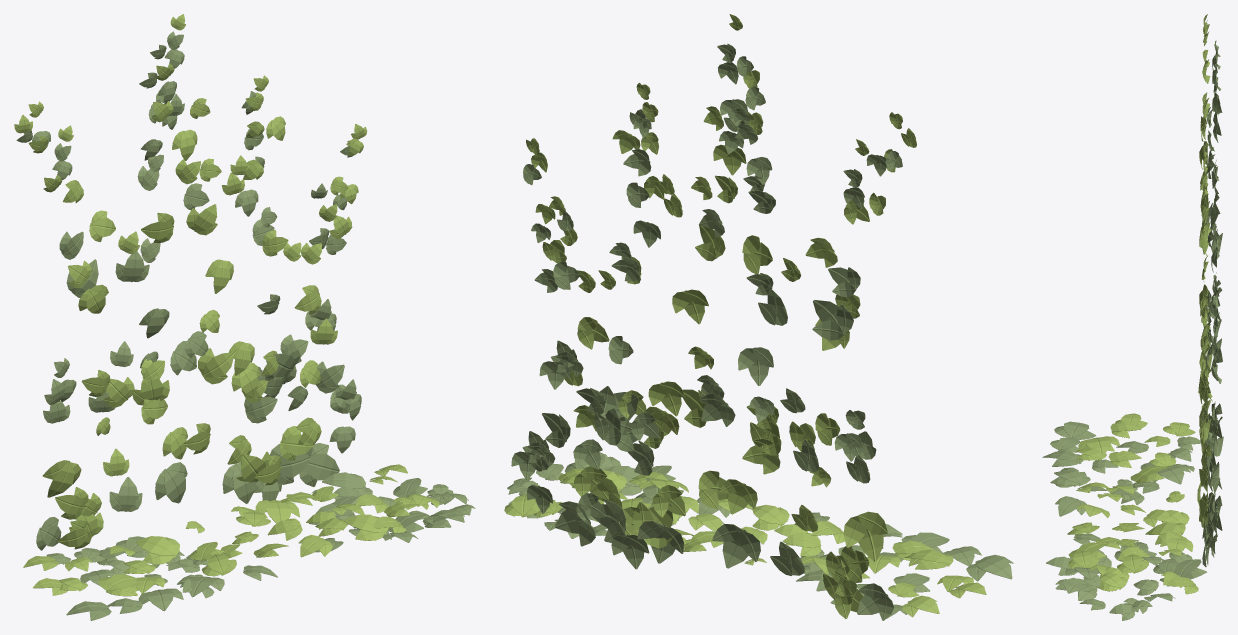
The model's file is broken_englishivy.fbx.
3 views of the same model, side by side, from view 1: azimuth 30°, elevation 25°; view 2: azimuth 150°, elevation 25°; view 3: azimuth 270°, elevation 25° (orthographic). The views are drawn at different scales.
Parts seen in each view (by area): view 1: EnglishIvy_Broken; view 2: EnglishIvy_Broken; view 3: EnglishIvy_Broken.
Part boxes in pixels (bbox=[...]): EnglishIvy_Broken: bbox=[14, 14, 475, 620]; EnglishIvy_Broken: bbox=[504, 14, 1013, 620]; EnglishIvy_Broken: bbox=[1042, 14, 1223, 620].
Bounding box in the file's own units: 6.08 × 6.96 × 2.39.
